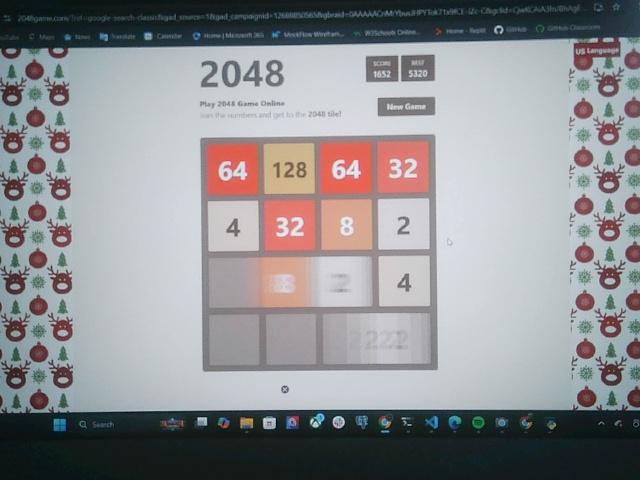best_score_box: (402, 54, 436, 82)
button: (379, 97, 435, 117)
score_box: (366, 56, 399, 81)
